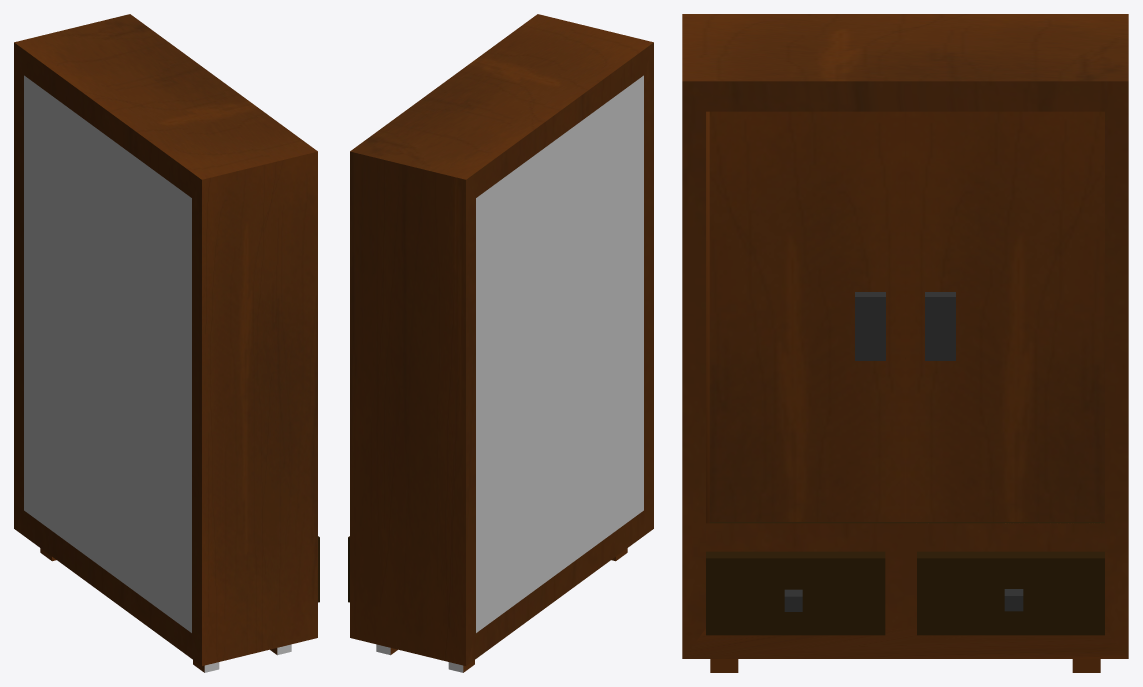
File: Closet Model.fbx
3 renders of one model, left to right at view 1: azimuth 30°, elevation 25°; view 2: azimuth 150°, elevation 25°; view 3: azimuth 270°, elevation 25°, orthographic. The views are drawn at different scales.
Visible parts, largest first — view 1: Cube; view 2: Cube; view 3: Cube.001, Cube.
Boxes of the visible parts, <box> form: Cube: <box>14,14,319,672</box>; Cube: <box>348,14,653,672</box>; Cube.001: <box>709,111,1104,521</box>; Cube: <box>682,14,1128,672</box>.
Size of the model in its own units: 60.26 by 208 by 140.
Materials: 4 (1 with a texture image).
